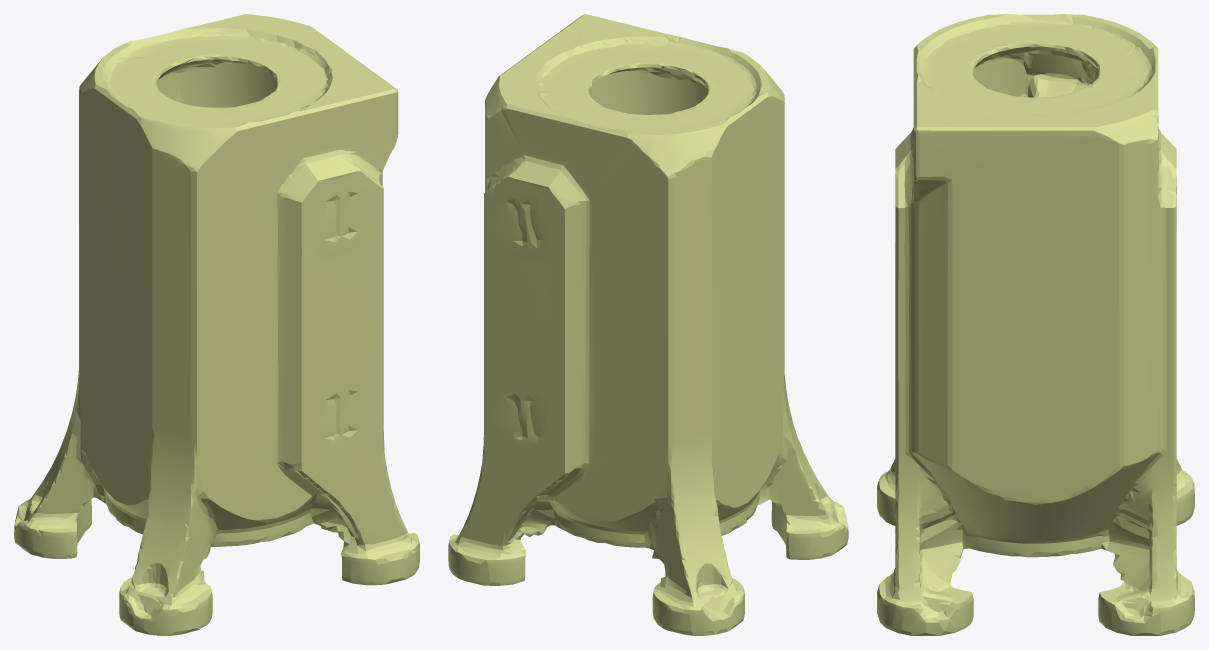
File: start_link.dae
3 renders of one model, left to right at view 1: azimuth 30°, elevation 25°; view 2: azimuth 150°, elevation 25°; view 3: azimuth 270°, elevation 25°, orthographic. The views are drawn at different scales.
Parts seen in each view (by area): view 1: asm_start_lp; view 2: asm_start_lp; view 3: asm_start_lp.
Boxes of the visible parts, x1,y1,x2,y2 form: asm_start_lp: (14,14,419,635); asm_start_lp: (448,14,848,635); asm_start_lp: (877,14,1194,635).
Bounding box in the file's own units: 0.1141 × 0.104 × 0.1807.
